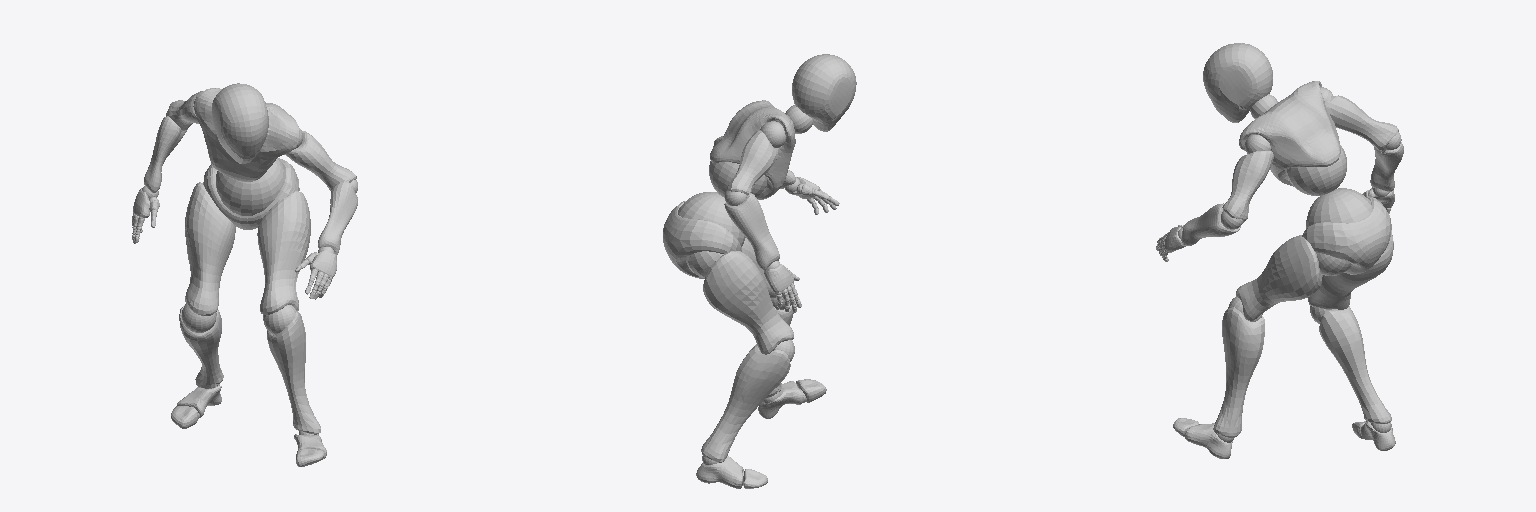
3 renders of one model, left to right at view 1: azimuth 30°, elevation 25°; view 2: azimuth 150°, elevation 25°; view 3: azimuth 270°, elevation 25°, orthographic.
Parts seen in each view (by area): view 1: Beta_Surface, Beta_Joints; view 2: Beta_Surface, Beta_Joints; view 3: Beta_Surface, Beta_Joints.
Part boxes in pixels (x1,y1,x2,y2): Beta_Surface: (132, 83, 357, 466); Beta_Joints: (132, 111, 357, 435); Beta_Surface: (663, 54, 856, 488); Beta_Joints: (678, 105, 834, 485); Beta_Surface: (1156, 43, 1403, 458); Beta_Joints: (1157, 87, 1401, 442).
Bounding box in the file's own units: 0.6181 × 1.47 × 0.8586.